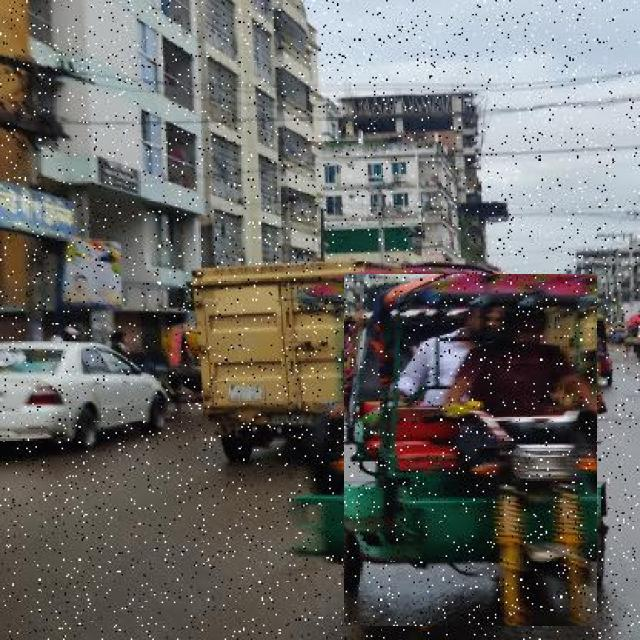Rickshaw: (344, 274, 597, 626)
numberplate: (228, 380, 264, 402)
